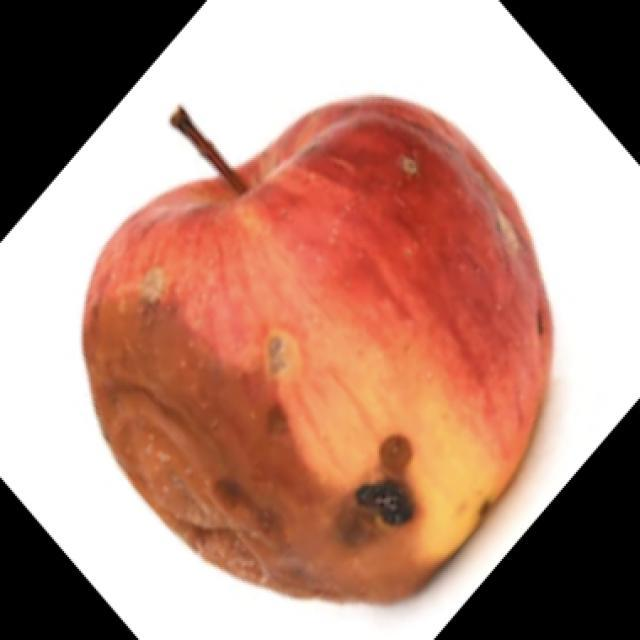Rotten: (73, 125, 575, 608)
